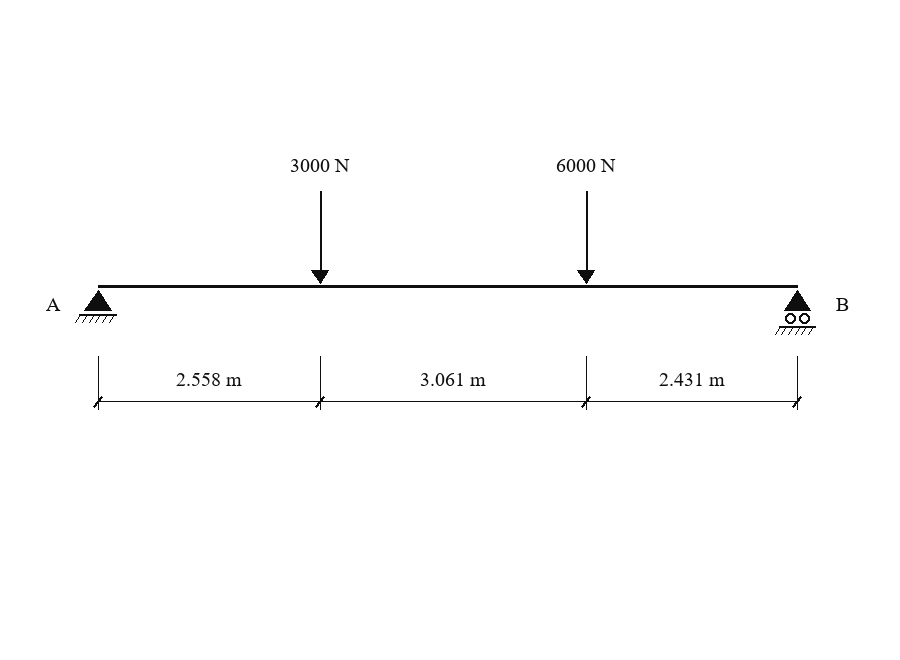pin_support: (75, 290, 117, 323)
point_load: (311, 191, 329, 284), (577, 191, 595, 284)
roller_support: (775, 290, 816, 335)
